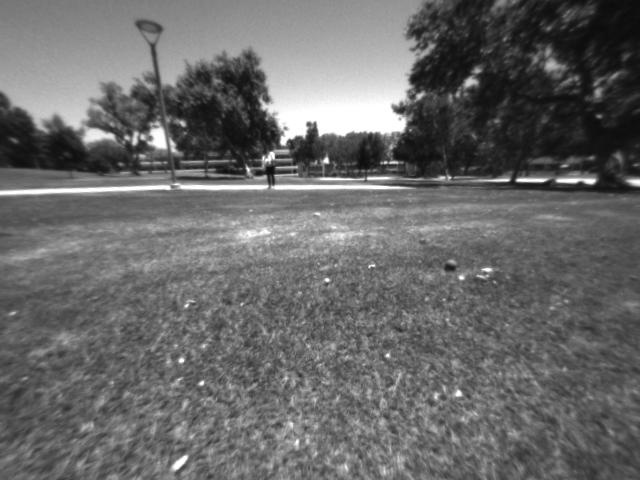dogtoy: (437, 254, 466, 276)
